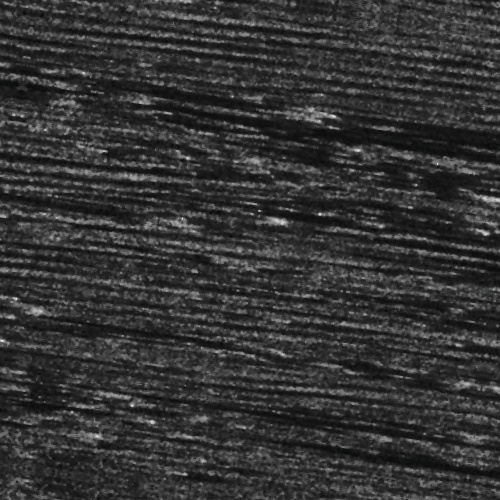object: (8, 412, 81, 425), (35, 449, 140, 458), (0, 336, 74, 345), (111, 225, 184, 234), (449, 199, 500, 210), (257, 100, 320, 107), (430, 179, 493, 186), (89, 115, 152, 120), (0, 370, 54, 375), (0, 322, 22, 329), (0, 419, 10, 432), (148, 498, 211, 500)
shadow: (182, 199, 500, 210), (388, 226, 500, 245), (0, 100, 288, 107), (333, 188, 500, 199), (0, 225, 147, 234), (412, 210, 500, 223), (168, 404, 500, 407), (311, 429, 500, 434), (207, 119, 500, 122), (0, 449, 87, 458), (365, 179, 461, 186), (0, 115, 120, 120), (0, 412, 45, 425), (386, 99, 500, 102), (62, 498, 179, 500), (483, 479, 500, 488), (0, 370, 22, 375)
